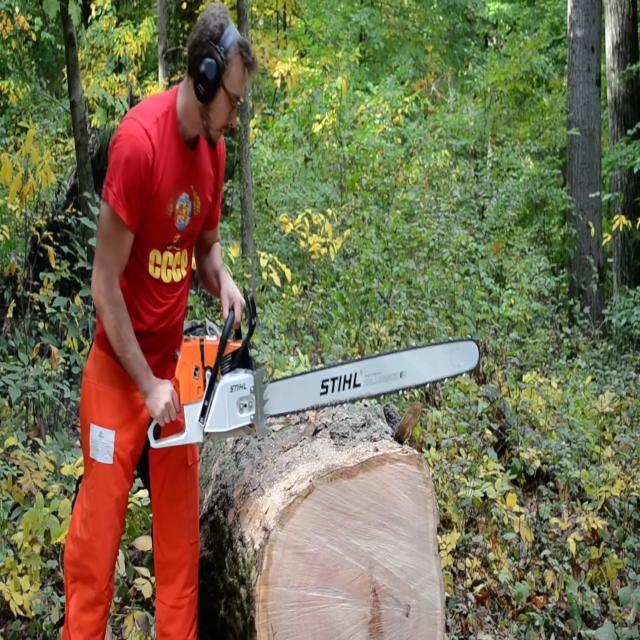Chainsaw: (145, 288, 487, 462)
